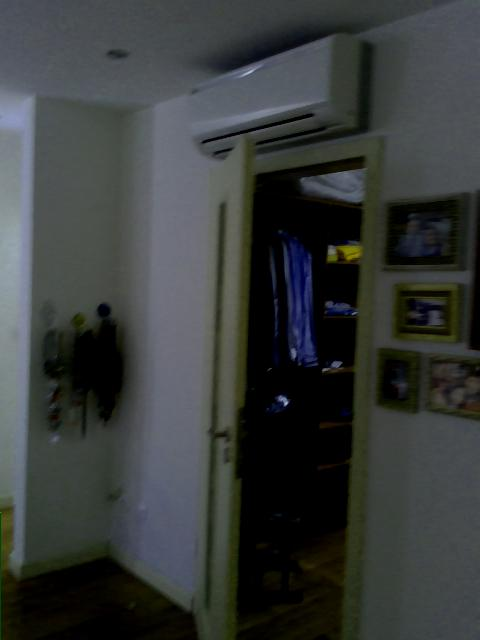semi_door: (185, 136, 381, 639)
